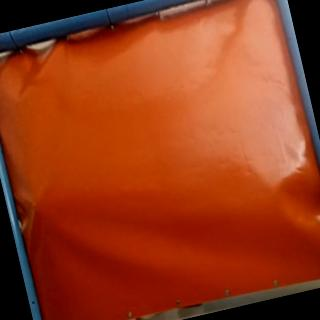Hit-hRxx: (27, 199, 40, 212)
